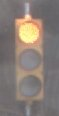Red: (12, 12, 45, 115)
